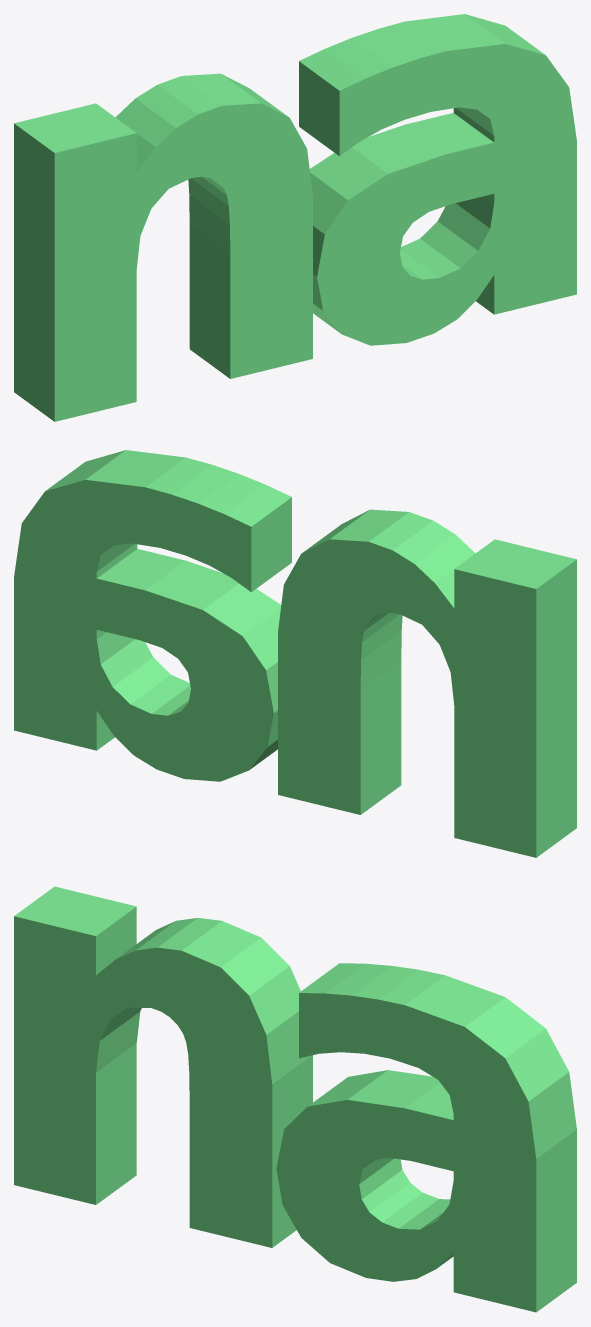
File: suku_kecil_na.glb
3 renders of one model, top to bottom at view 1: azimuth 30°, elevation 25°; view 2: azimuth 150°, elevation 25°; view 3: azimuth 330°, elevation 25°, orthographic.
Parts seen in each view (by area): view 1: geometry_0; view 2: geometry_0; view 3: geometry_0.
Boxes of the visible parts, x1,y1,x2,y2 form: geometry_0: (14,14,576,421); geometry_0: (14,450,576,857); geometry_0: (14,886,576,1312).
Bounding box in the file's own units: 11.12 × 5.74 × 1.5.
